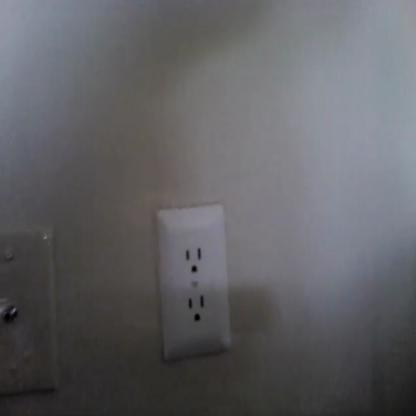OUTLET: (157, 206, 229, 352)
